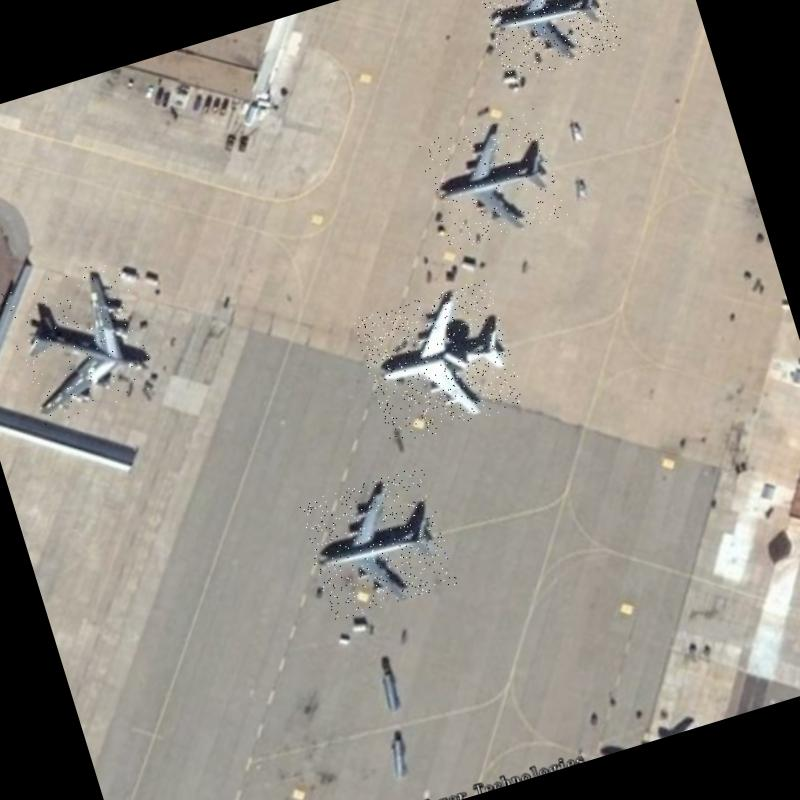A14: (296, 466, 459, 622), (416, 108, 569, 254), (474, 0, 624, 84)
A7: (353, 278, 528, 447)
A8: (0, 257, 159, 426)
